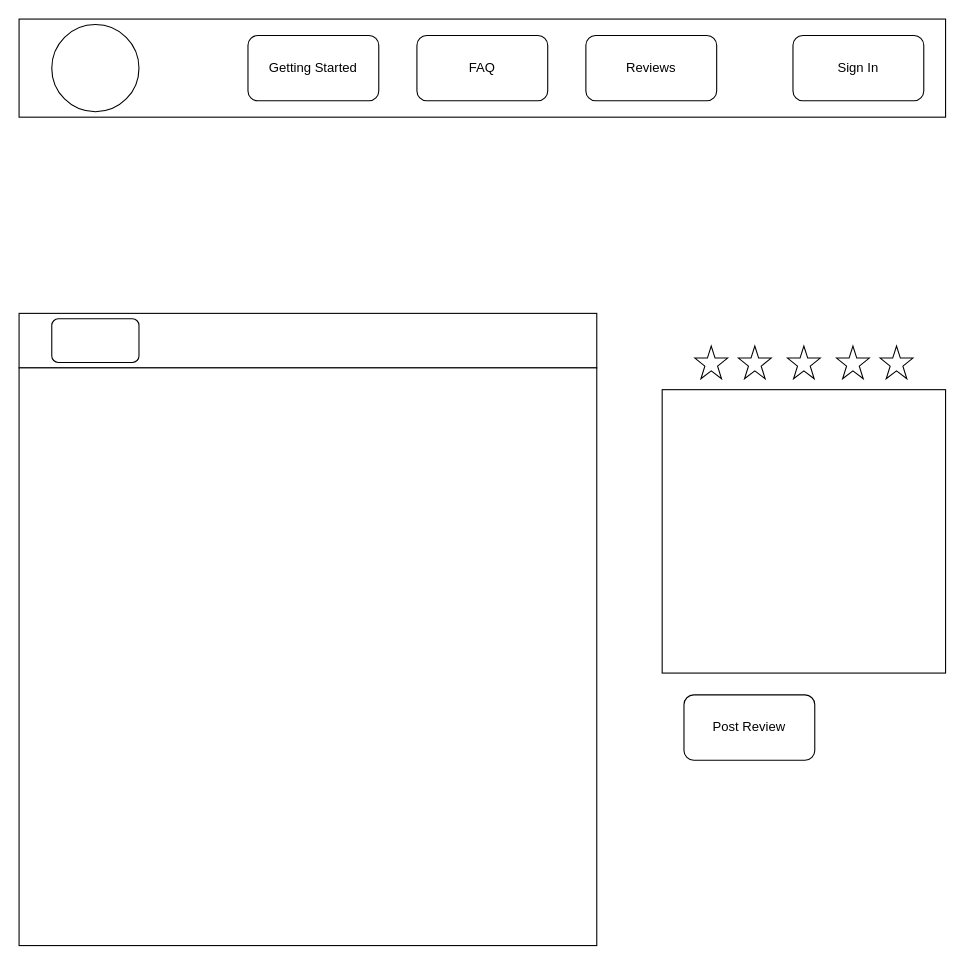
Image size: 965x965. Some labels were removed from this diagram. The centre of each missing label's shape, as x and y in pixels:
Logo/Home: the point at 95,67
Read reviews: the point at 307,656
Sort Reviews by...: the point at 95,340
